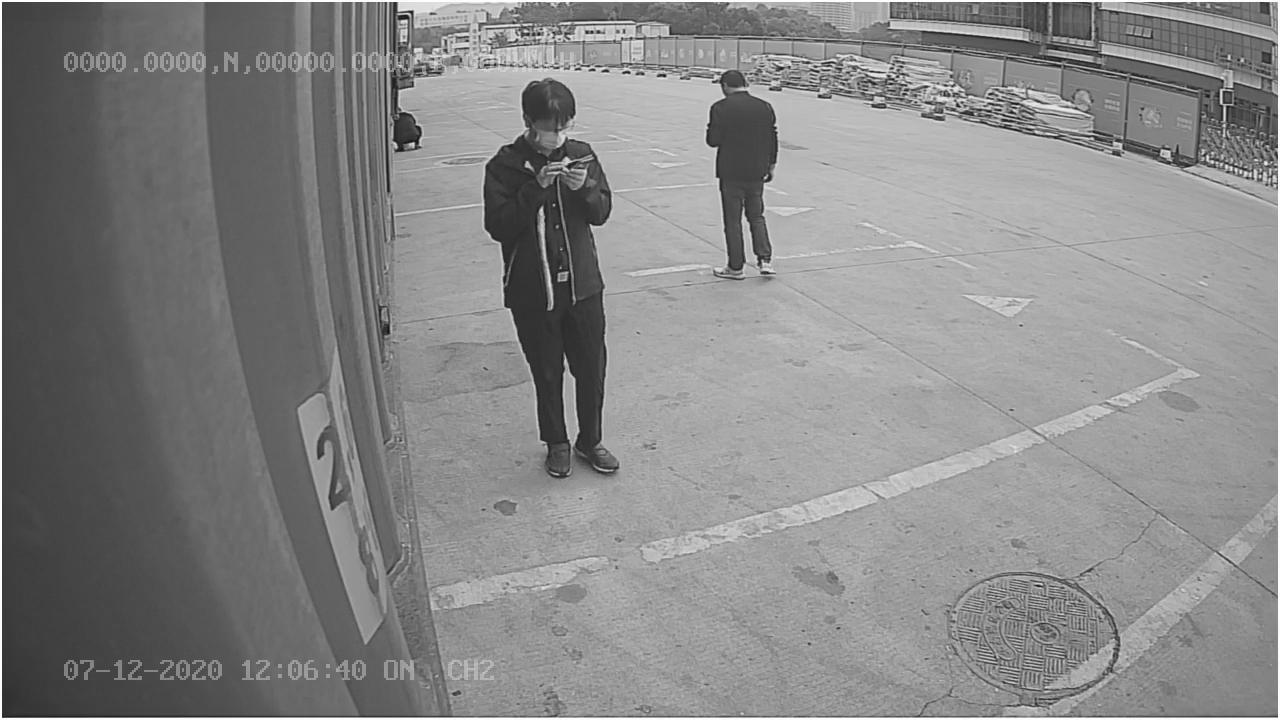person: (482, 73, 625, 480), (697, 63, 786, 284)
